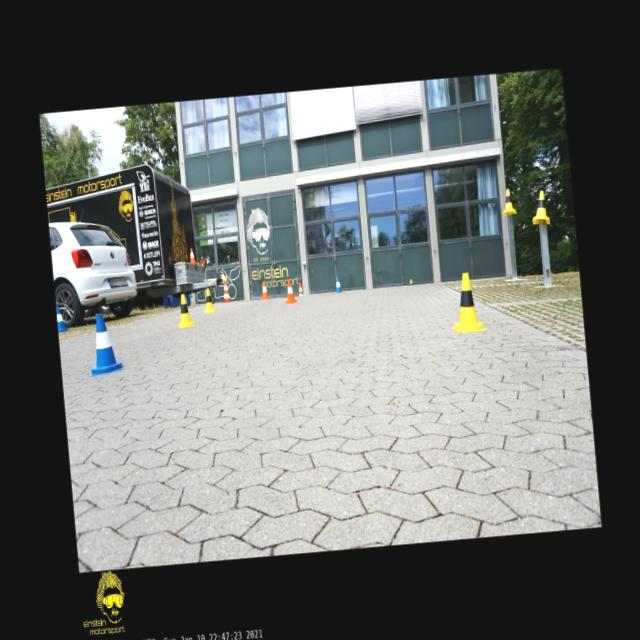blue_cone: (84, 312, 123, 376), (56, 304, 68, 332), (334, 276, 342, 292)
large_orange_cone: (222, 282, 230, 302), (298, 282, 302, 296)
orange_cone: (284, 280, 296, 302), (259, 280, 269, 300), (189, 247, 195, 263)
yellow_cone: (446, 271, 487, 333), (174, 292, 194, 328), (530, 190, 550, 225), (500, 188, 517, 215), (202, 288, 215, 312)
